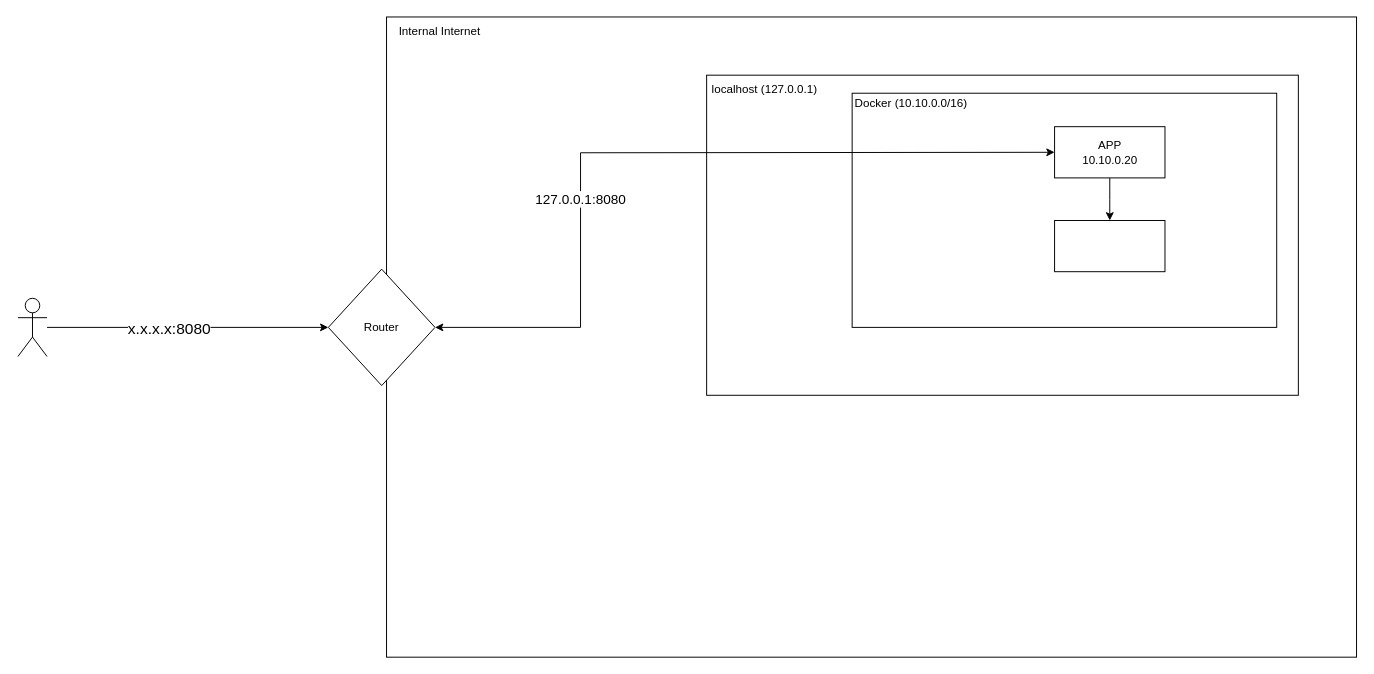
Image size: 1374x674. Some labels were removed from this diagram. Here are the shapes that lost their labels. From the top down, the centre of each, then its label:
point (1109, 246): DB 10.10.0.10
point (32, 326): USER
